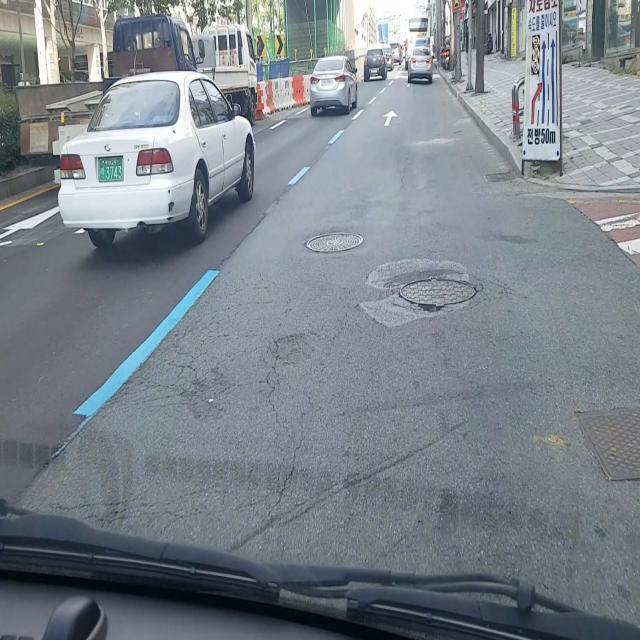pothole: (397, 275, 480, 314)
